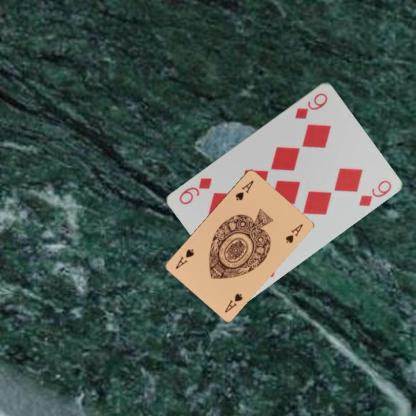9d: (292, 90, 330, 120)
As: (233, 177, 255, 202), (222, 290, 244, 314)
